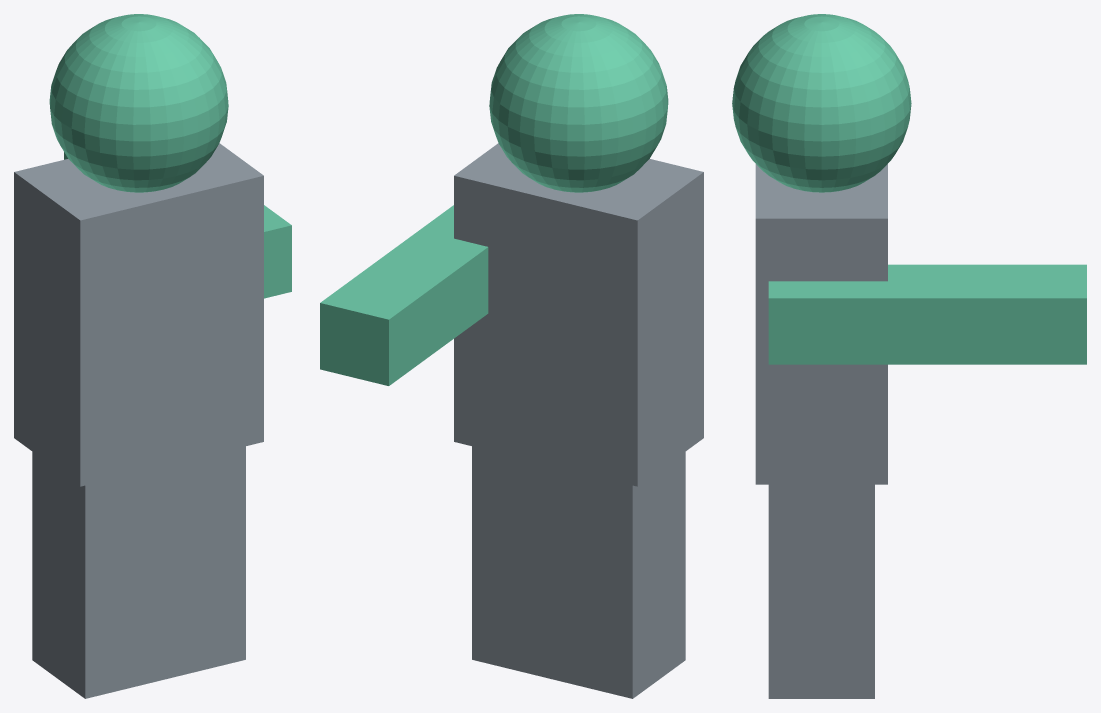
Rendered from CO_VajraLancer_LOD0.glb.
3 renders of one model, left to right at view 1: azimuth 30°, elevation 25°; view 2: azimuth 150°, elevation 25°; view 3: azimuth 270°, elevation 25°, orthographic.
Visible parts, largest first — view 1: Head; view 2: Head; view 3: Head.
Part boxes in pixels (<box>): Head: <box>14,14,291,698</box>; Head: <box>320,14,703,698</box>; Head: <box>732,14,1086,698</box>.
Size of the model in its own units: 61.75 by 172 by 87.
